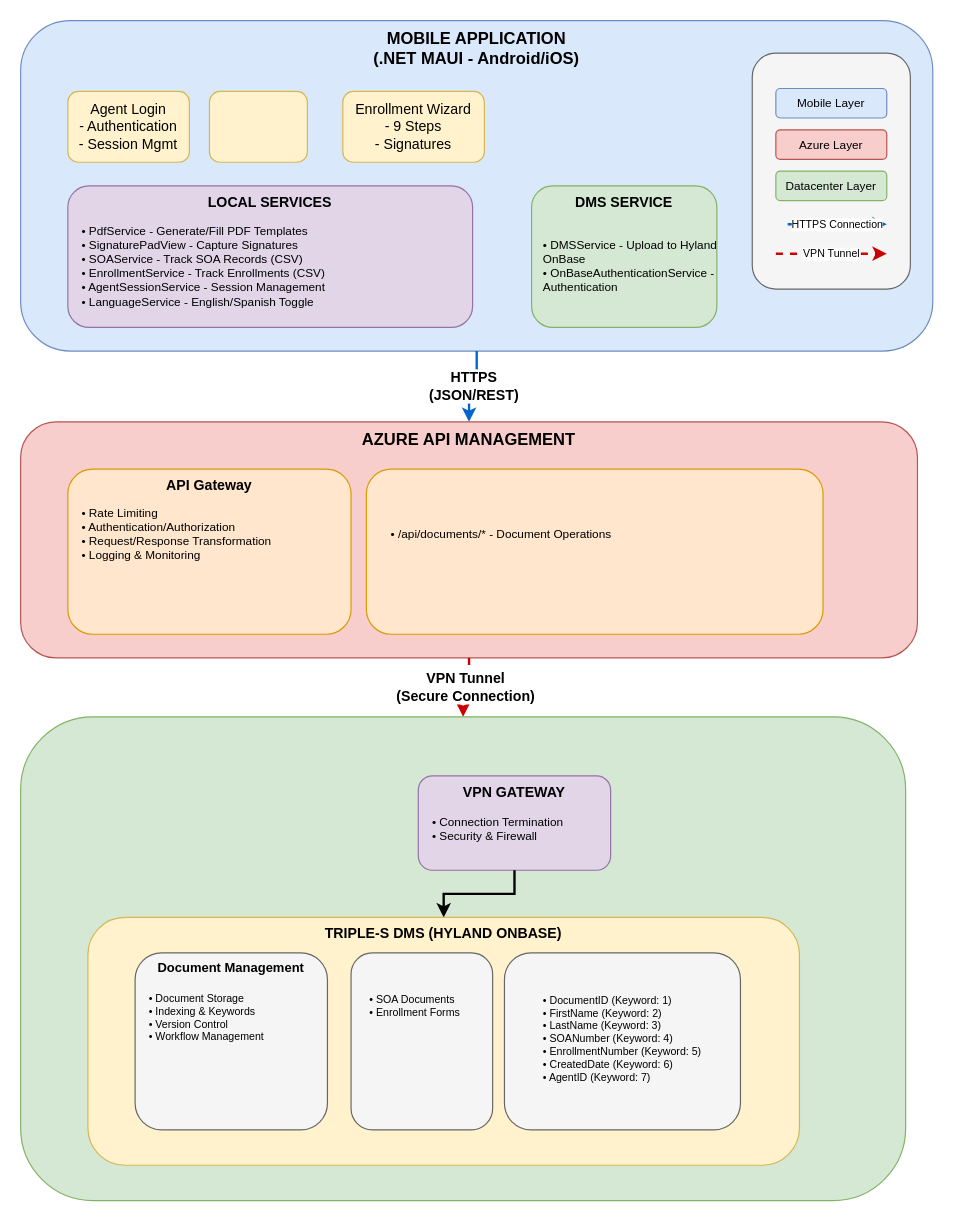
This 953x1221 diagram has some shape labels left out. Each missing label, with the box of its shape:
Document Types: (350, 952, 493, 1130)
Endpoints: (365, 468, 823, 634)
Keywords (Metadata): (503, 952, 740, 1130)
LEGEND: (751, 52, 910, 289)
SOA Wizard - 4 Steps - Signatures: (208, 90, 307, 162)
TRIPLE-S DATACENTER (Internal Network): (19, 716, 906, 1201)
